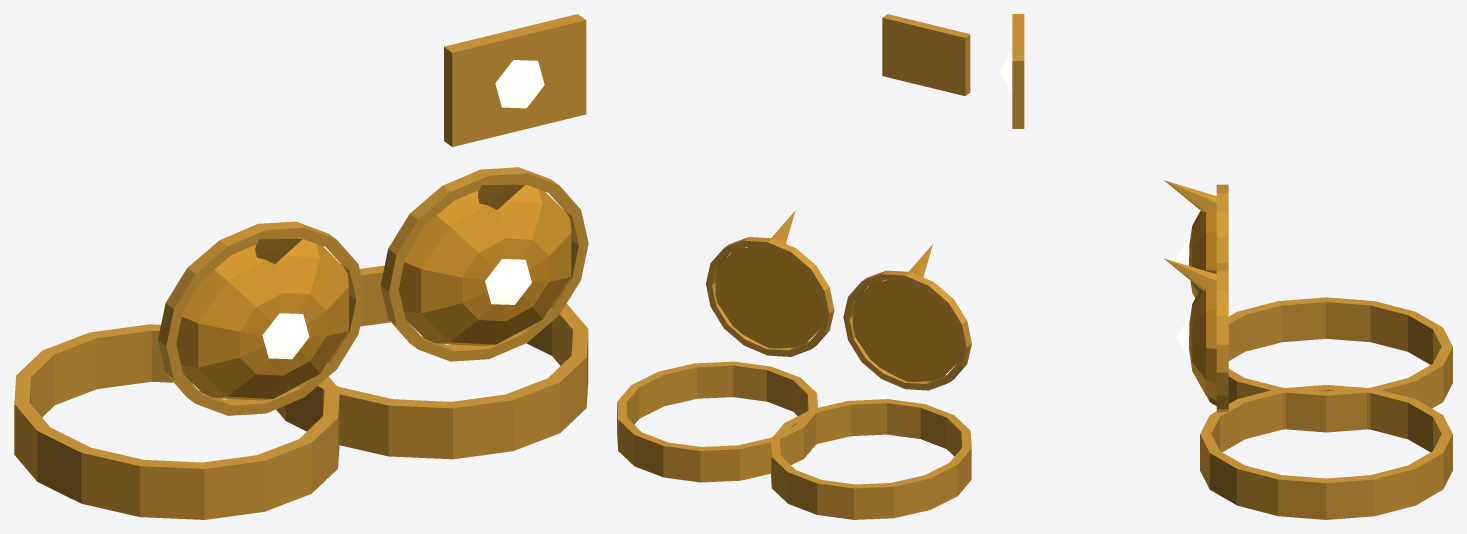
Rendered from armor_lord_legs_legendary_orc.glb.
The picture shows the model from 3 angles, left to right: view 1: azimuth 30°, elevation 25°; view 2: azimuth 150°, elevation 25°; view 3: azimuth 270°, elevation 25°; orthographic projection. The views are drawn at different scales.
Parts seen in each view (by area): view 1: armor_lord_legs_legendary_orc__calf_r, armor_lord_legs_legendary_orc__calf_l, armor_lord_legs_legendary_orc__pelvis; view 2: armor_lord_legs_legendary_orc__calf_l, armor_lord_legs_legendary_orc__calf_r, armor_lord_legs_legendary_orc__pelvis; view 3: armor_lord_legs_legendary_orc__calf_l, armor_lord_legs_legendary_orc__calf_r, armor_lord_legs_legendary_orc__pelvis.
Part boxes in pixels (x1=…): armor_lord_legs_legendary_orc__calf_r: x1=14, y1=221, x2=365, y2=519; armor_lord_legs_legendary_orc__calf_l: x1=276, y1=167, x2=588, y2=459; armor_lord_legs_legendary_orc__pelvis: x1=444, y1=14, x2=586, y2=146; armor_lord_legs_legendary_orc__calf_l: x1=617, y1=210, x2=834, y2=482; armor_lord_legs_legendary_orc__calf_r: x1=770, y1=244, x2=971, y2=519; armor_lord_legs_legendary_orc__pelvis: x1=882, y1=14, x2=970, y2=95; armor_lord_legs_legendary_orc__calf_l: x1=1164, y1=258, x2=1452, y2=519; armor_lord_legs_legendary_orc__calf_r: x1=1164, y1=180, x2=1452, y2=432; armor_lord_legs_legendary_orc__pelvis: x1=1000, y1=14, x2=1024, y2=128.
Bounding box in the file's own units: 43.39 × 42.4 × 44.66.
